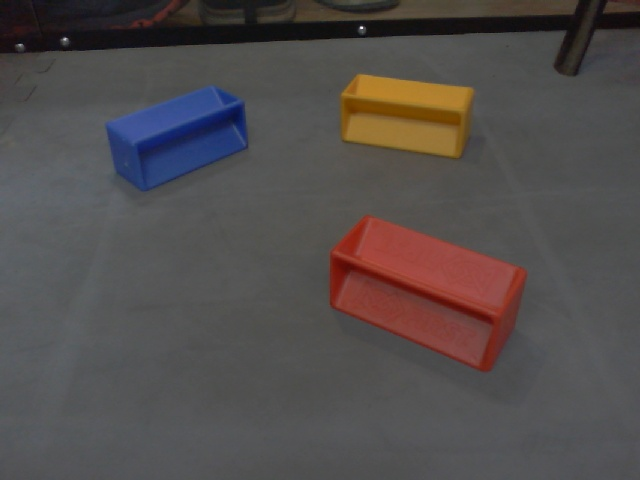BlueSample: (104, 85, 249, 194)
RedSample: (329, 210, 530, 381)
YellowSample: (338, 70, 477, 162)
